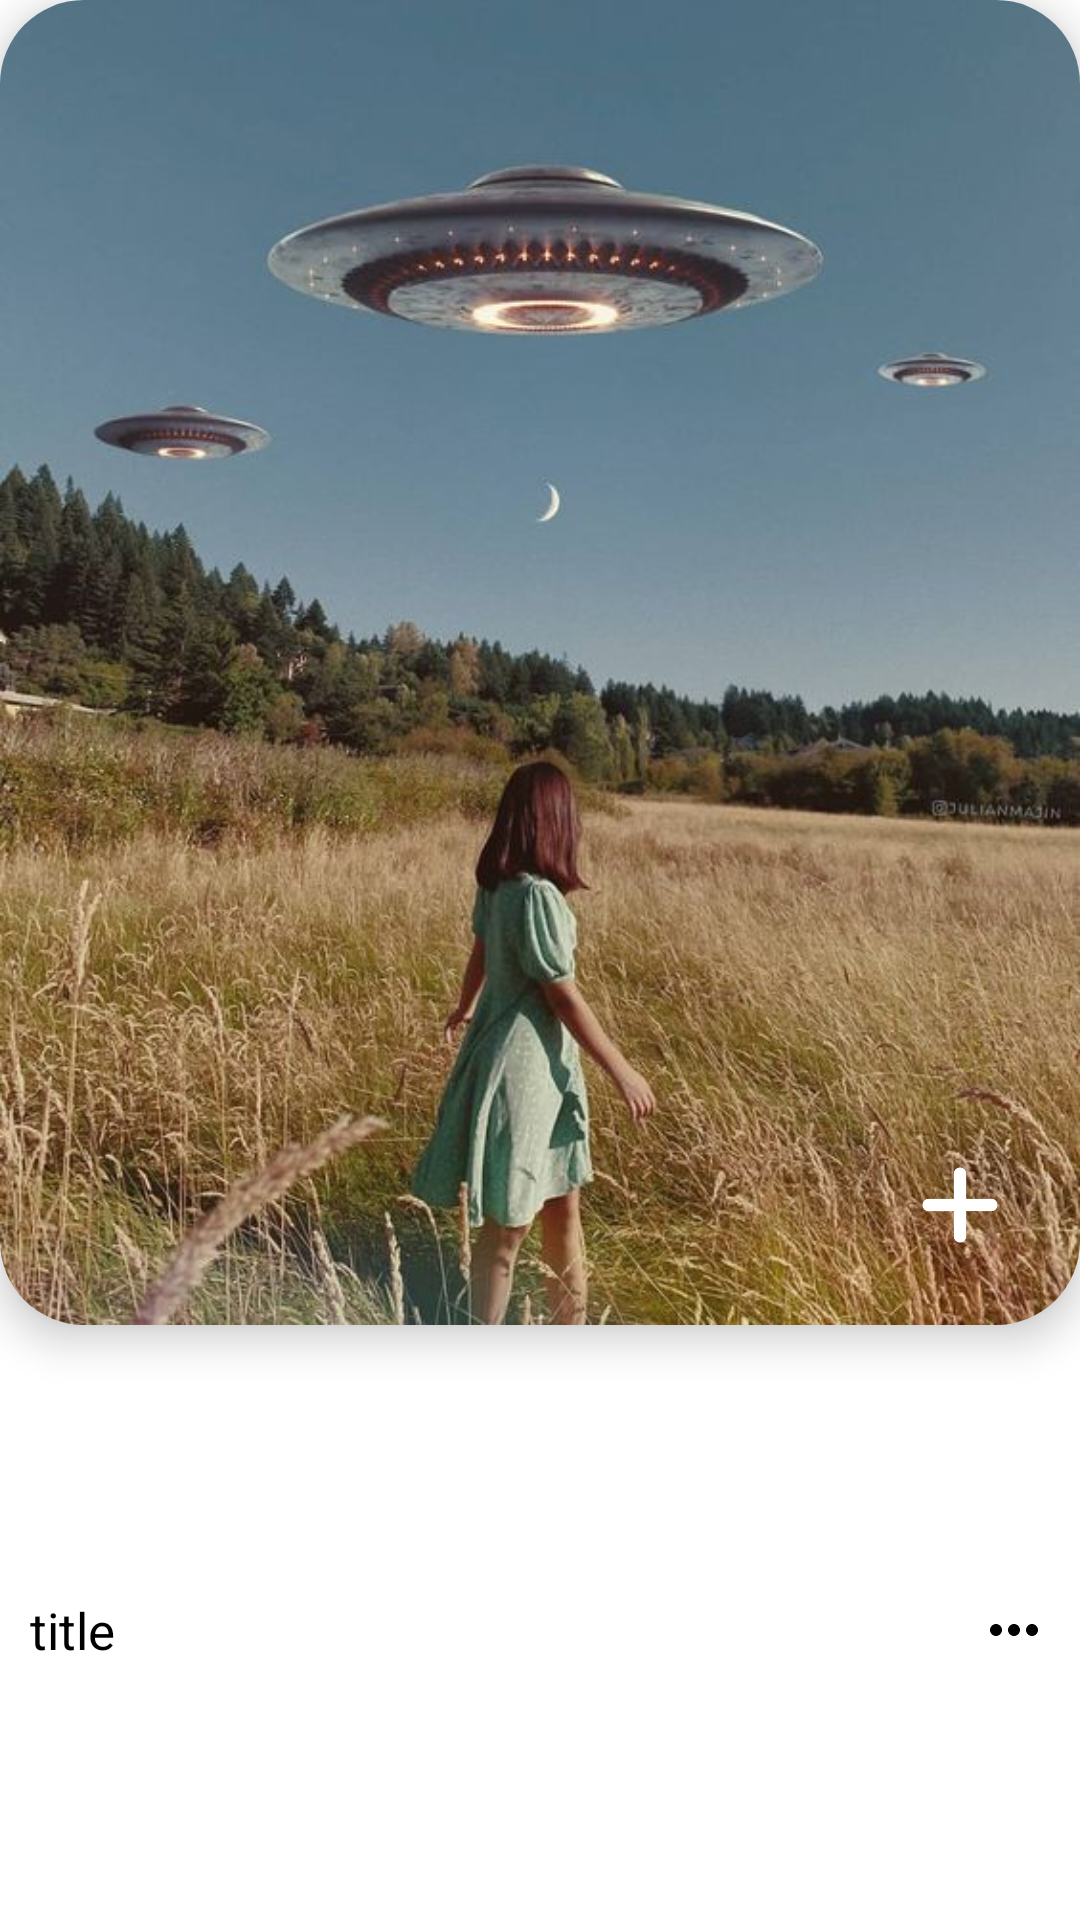

Icon click points for this 1080*1920 phone screenshot, format point (x, y):
more: point (1014, 1630)
plus: point (960, 1205)
